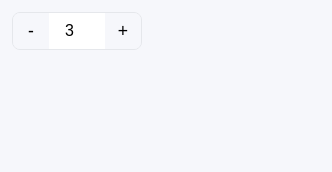
Test: QuantityInput › decreases the quantity when - is clicked
The image size is (332, 172).
Click the button named "decrease quantity": click(31, 31) 13,13 -> 49,49
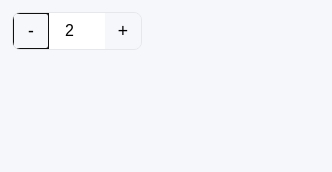
Expected: the number field named "Quantity" holds "2", 49,13 -> 105,49
